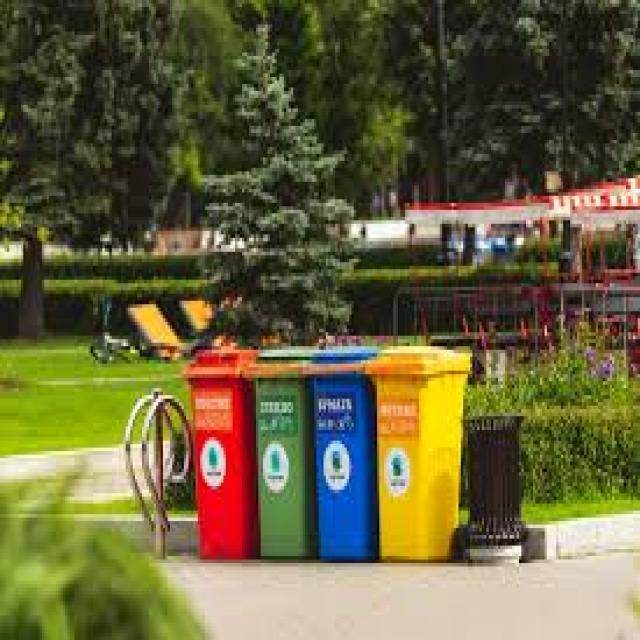dustbin ahead at: (175, 338, 464, 567)
